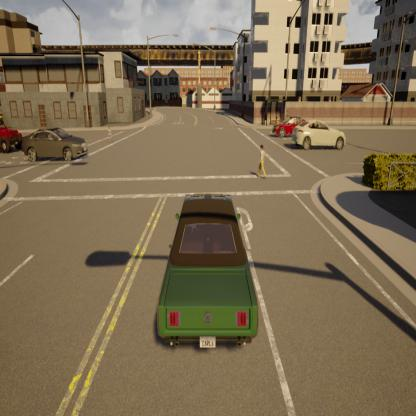Cars: (144, 188, 262, 359), (18, 124, 92, 167), (290, 117, 352, 154), (272, 110, 312, 140), (0, 114, 25, 156)
Pedestrian: (255, 142, 270, 184), (105, 122, 117, 147)
